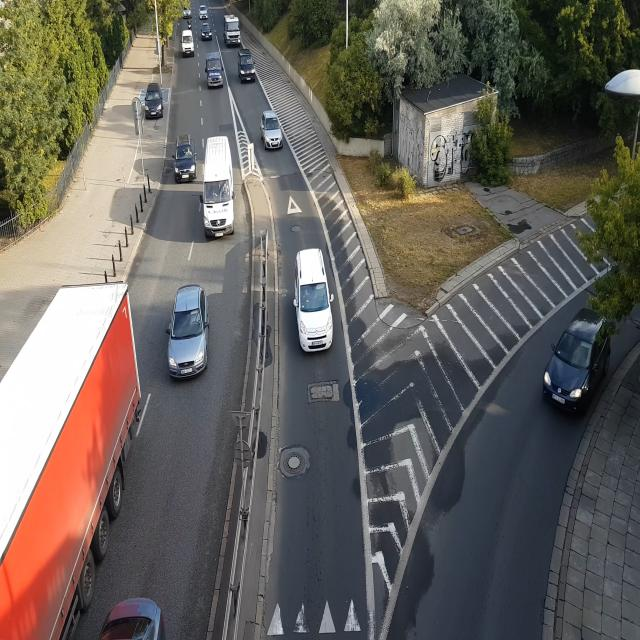car: (547, 303, 608, 419), (290, 246, 336, 356), (165, 276, 212, 380), (202, 127, 238, 242), (170, 130, 197, 187), (260, 105, 288, 156), (203, 49, 227, 90), (141, 81, 166, 119), (234, 50, 260, 85), (181, 27, 196, 57), (198, 0, 210, 21), (201, 22, 212, 43)
truck: (0, 277, 134, 588), (222, 8, 244, 48)
